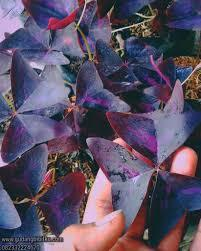butterfly flower: (89, 120, 200, 238), (0, 51, 59, 147), (72, 51, 152, 96)
